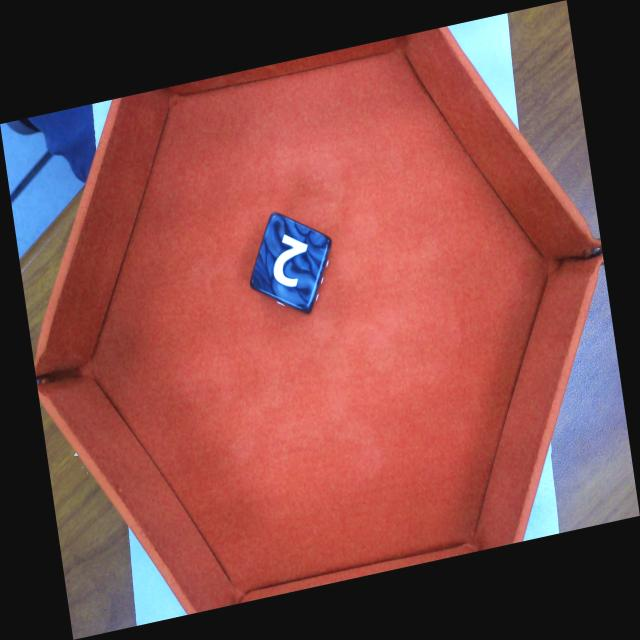dice: (249, 208, 333, 313)
